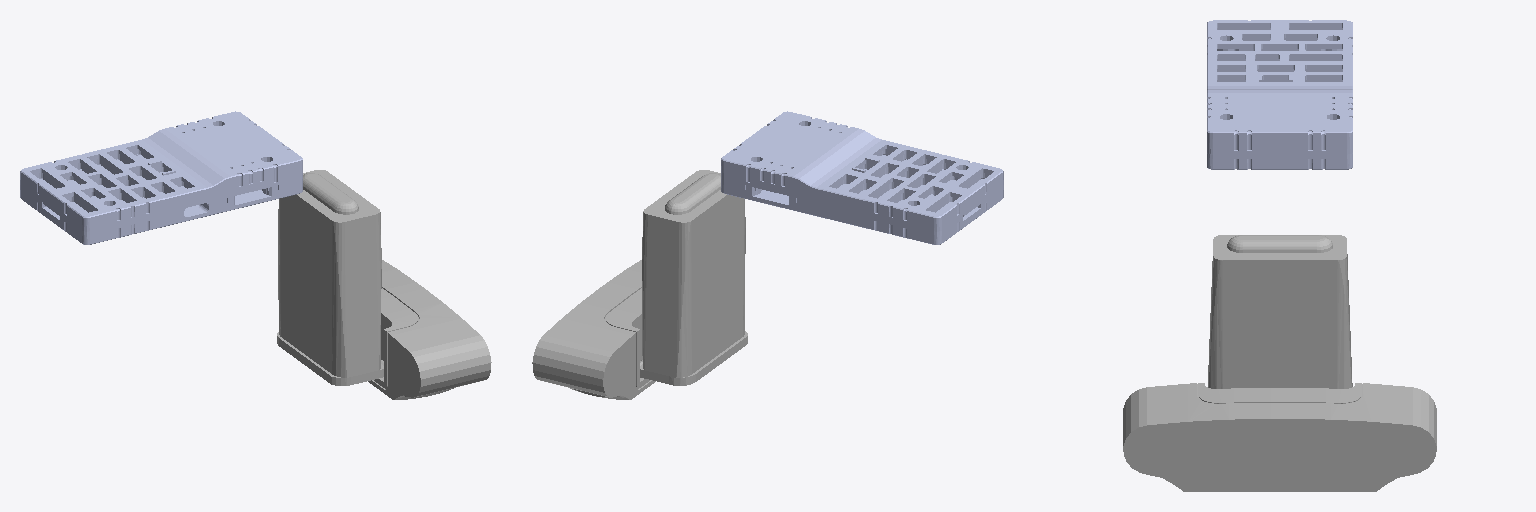
robot.urdf — holybro_drone_assembly:
<?xml version="1.0" encoding="utf-8"?>
<!-- This URDF was automatically created by SolidWorks to URDF Exporter! Originally created by [author] ([email redacted]) 
     Commit Version: 1.6.0-4-g7f85cfe  Build Version: 1.6.7995.38578
     For more information, please see http://wiki.ros.org/sw_urdf_exporter -->
<robot
  name="holybro_drone_assembly">
  <link
    name="base_link">
    <visual>
      <origin
        xyz="0 0 0"
        rpy="0 0 0" />
      <geometry>
        <mesh
          filename="package://drone_urdf/meshes/visual/base_link.STL" />
      </geometry>
      <material
        name="">
        <color
          rgba="0.792156862745098 0.819607843137255 0.933333333333333 1" />
      </material>
    </visual>
    <collision>
      <origin
        xyz="0 0 0"
        rpy="0 0 0" />
      <geometry>
        <mesh
          filename="package://drone_urdf/meshes/visual/base_link.STL" />
      </geometry>
    </collision>
  </link>
  <link
    name="camera_link">
    <inertial>
      <origin
        xyz="-1.93370223325014E-05 0.00969133661013009 -0.0222849100330783"
        rpy="0 0 0" />
      <mass
        value="0.0925592950450192" />
      <inertia
        ixx="1.90667390497114E-05"
        ixy="-9.98223494507145E-10"
        ixz="-3.42836265709781E-09"
        iyy="5.30992572848456E-05"
        iyz="-1.0531414617093E-07"
        izz="4.16495082361372E-05" />
    </inertial>
    <visual>
      <origin
        xyz="0 0 0"
        rpy="0 0 0" />
      <geometry>
        <mesh
          filename="package://drone_urdf/meshes/visual/camera_link.STL" />
      </geometry>
      <material
        name="">
        <color
          rgba="0.752941176470588 0.752941176470588 0.752941176470588 1" />
      </material>
    </visual>
    <collision>
      <origin
        xyz="0 0 0"
        rpy="0 0 0" />
      <geometry>
        <mesh
          filename="package://drone_urdf/meshes/visual/camera_link.STL" />
      </geometry>
    </collision>
  </link>
  <joint
    name="camera_link"
    type="fixed">
    <origin
      xyz="0.0852 0 -0.0846499999999999"
      rpy="3.14159265358979 0 -1.5707963267949" />
    <parent
      link="base_link" />
    <child
      link="camera_link" />
    <axis
      xyz="0 0 0" />
  </joint>
  <link
    name="body_link">
    <inertial>
      <origin
        xyz="-0.00504204874470229 -3.48721703947321E-05 -0.0402755599020737"
        rpy="0 0 0" />
      <mass
        value="0.453039078577497" />
      <inertia
        ixx="0.000251473459157957"
        ixy="-4.70498213718468E-07"
        ixz="1.90614055506252E-11"
        iyy="0.000409524550494582"
        iyz="4.71350800218366E-13"
        izz="0.000524303917978318" />
    </inertial>
    <visual>
      <origin
        xyz="0 0 0"
        rpy="0 0 0" />
      <geometry>
        <mesh
          filename="package://drone_urdf/meshes/visual/body_link.STL" />
      </geometry>
      <material
        name="">
        <color
          rgba="0.792156862745098 0.819607843137255 0.933333333333333 1" />
      </material>
    </visual>
    <collision>
      <origin
        xyz="0 0 0"
        rpy="0 0 0" />
      <geometry>
        <mesh
          filename="package://drone_urdf/meshes/visual/body_link.STL" />
      </geometry>
    </collision>
  </link>
  <joint
    name="body_link"
    type="fixed">
    <origin
      xyz="0 0 -0.0398999999999999"
      rpy="0 0 0" />
    <parent
      link="base_link" />
    <child
      link="body_link" />
    <axis
      xyz="0 0 0" />
  </joint>
</robot>

--- Render facts (derived) ---
3 views of the same robot in one strip: view 1: azimuth 30°, elevation 25°; view 2: azimuth 150°, elevation 25°; view 3: azimuth 270°, elevation 25° (orthographic).
Robot: holybro_drone_assembly — 3 links, 2 joints (2 fixed); root link base_link; default pose: every joint at zero.
Visible links, largest first — view 1: camera_link, base_link; view 2: camera_link, base_link; view 3: camera_link, base_link.
Boxes of the visible links, bbox=[...] form: camera_link: bbox=[277, 170, 491, 399]; base_link: bbox=[20, 111, 302, 244]; camera_link: bbox=[532, 170, 747, 399]; base_link: bbox=[721, 111, 1003, 244]; camera_link: bbox=[1123, 235, 1436, 491]; base_link: bbox=[1207, 20, 1352, 169].
Bounding box of the posed robot: 0.1407 × 0.0939 × 0.0921 m (x, y, z).
2 mesh visuals loaded from 3 distinct referenced files (2 binary STL); not drawn: 1 (reference not matched to a file when rendering).